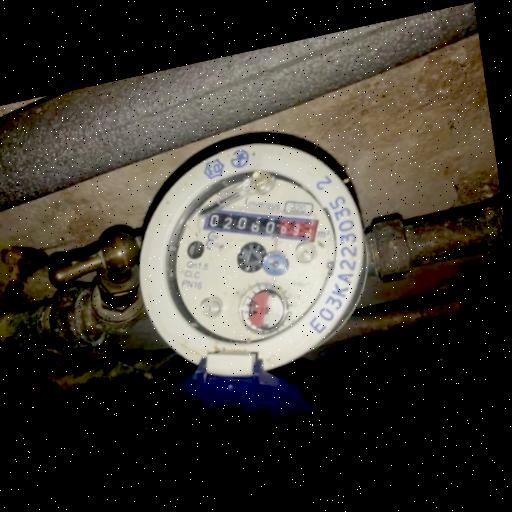0: (257, 212, 283, 238), (230, 209, 253, 233), (205, 209, 224, 231)
2: (217, 208, 239, 233)
6: (297, 216, 321, 246), (243, 212, 267, 236), (274, 216, 296, 238)
9: (287, 217, 308, 239)
border_water_meter_number: (196, 181, 323, 266)
